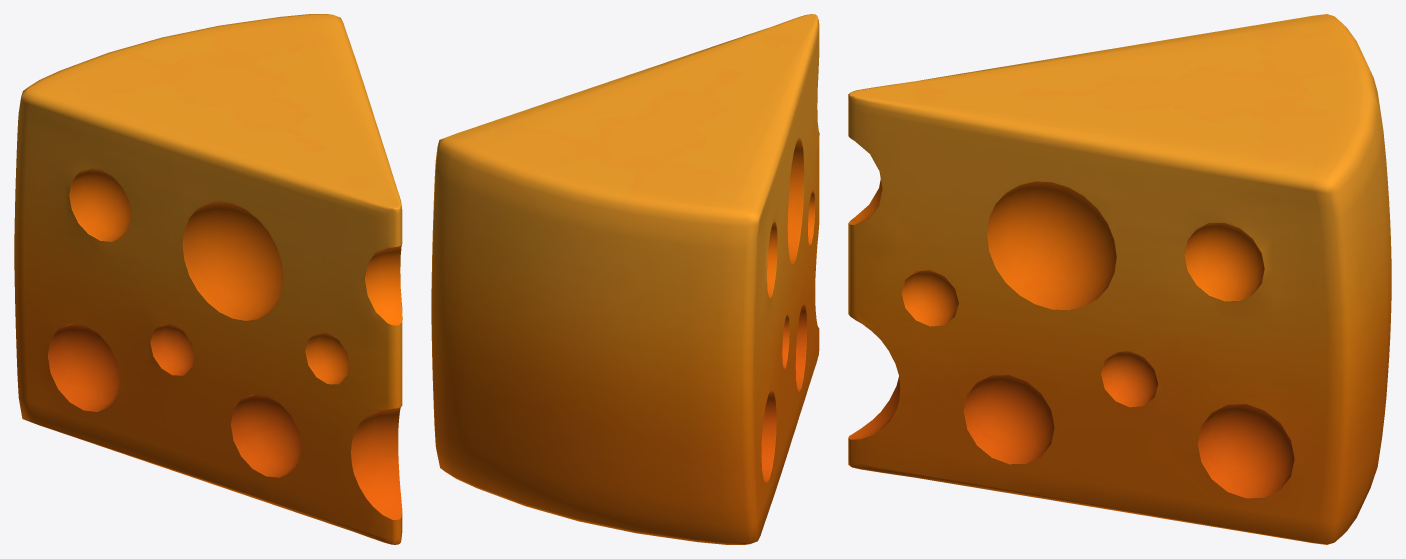
The model's file is Cheese.fbx.
3 renders of one model, left to right at view 1: azimuth 30°, elevation 25°; view 2: azimuth 150°, elevation 25°; view 3: azimuth 270°, elevation 25°, orthographic. The views are drawn at different scales.
Parts seen in each view (by area): view 1: Cheese; view 2: Cheese; view 3: Cheese.
Boxes of the visible parts, box(x1,y1,x2,y2) form: Cheese: box(14, 14, 402, 544); Cheese: box(431, 14, 819, 544); Cheese: box(848, 14, 1391, 544).
Bounding box in the file's own units: 156 × 157 × 207.
1 material, 1 textured.
